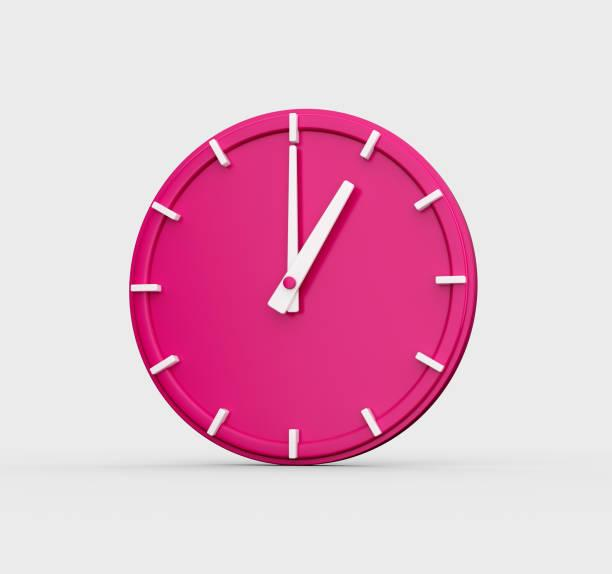clock: (127, 101, 480, 470)
